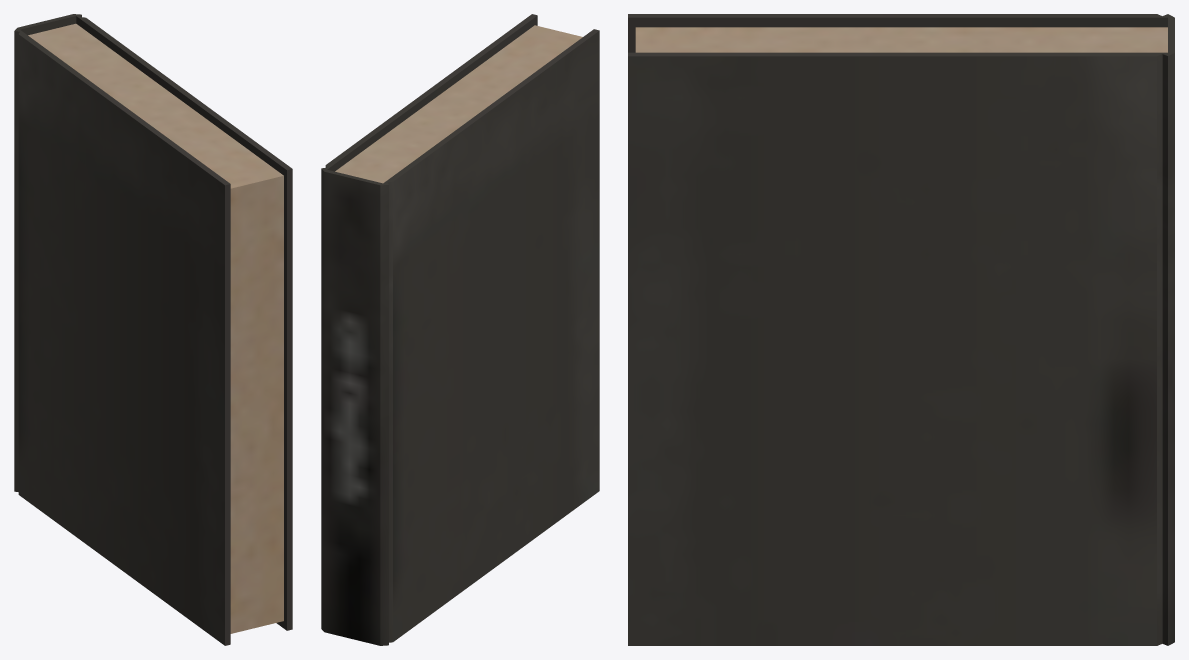
File: Libro.fbx
3 views of the same model, side by side, from view 1: azimuth 30°, elevation 25°; view 2: azimuth 150°, elevation 25°; view 3: azimuth 270°, elevation 25° (orthographic). The views are drawn at different scales.
Parts seen in each view (by area): view 1: Old_Dusty_Bookshelf.001; view 2: Old_Dusty_Bookshelf.001; view 3: Old_Dusty_Bookshelf.001.
Part boxes in pixels (box(x1,y1,x2,y2)): Old_Dusty_Bookshelf.001: box(14, 14, 292, 645); Old_Dusty_Bookshelf.001: box(321, 14, 599, 645); Old_Dusty_Bookshelf.001: box(628, 14, 1174, 645).
Size of the model in its own units: 3.84 by 25 by 21.
